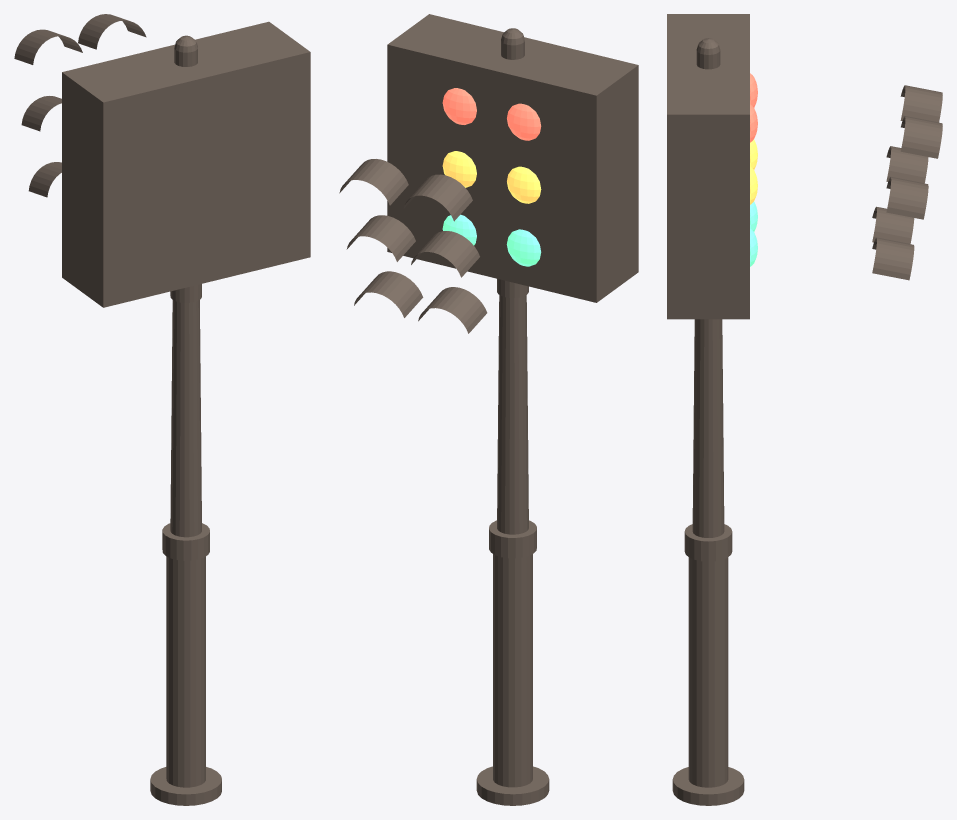
File: 35-traffic-light-bs1.glb
The picture shows the model from 3 angles, left to right: view 1: azimuth 30°, elevation 25°; view 2: azimuth 150°, elevation 25°; view 3: azimuth 270°, elevation 25°; orthographic projection.
Visible parts, largest first — view 1: Housing, PoleLower, PoleUpper, BaseFlange, CollarRing, Hood_red_-0.23, Hood_red_+0.23, Hood_orange_-0.23, Hood_green_-0.23; view 2: Housing, PoleLower, PoleUpper, BaseFlange, Hood_green_+0.23, Hood_green_-0.23, Hood_red_+0.23, Hood_orange_+0.23, Hood_red_-0.23, Hood_orange_-0.23, CollarRing, Lens_green_-0.23 (+5 smaller); view 3: Housing, PoleLower, PoleUpper, BaseFlange, Hood_orange_+0.23, Hood_green_+0.23, Hood_red_+0.23, CollarRing, Hood_red_-0.23, Hood_orange_-0.23, Hood_green_-0.23.
Part boxes in pixels (box(x1,y1,x2,y2)): Housing: box(62, 21, 310, 307); PoleLower: box(166, 556, 205, 787); PoleUpper: box(170, 300, 201, 537); BaseFlange: box(150, 767, 221, 805); CollarRing: box(162, 523, 209, 560); Hood_red_-0.23: box(14, 29, 82, 64); Hood_red_+0.23: box(78, 14, 146, 49); Hood_orange_-0.23: box(21, 96, 61, 131); Hood_green_-0.23: box(28, 162, 61, 197); Housing: box(387, 14, 638, 302); PoleLower: box(493, 554, 532, 787); PoleUpper: box(497, 295, 528, 534); BaseFlange: box(476, 766, 549, 805); Hood_green_+0.23: box(354, 271, 423, 317); Hood_green_-0.23: box(418, 287, 487, 333); Hood_red_+0.23: box(339, 159, 408, 205); Hood_orange_+0.23: box(346, 215, 415, 261); Hood_red_-0.23: box(403, 174, 472, 221); Hood_orange_-0.23: box(411, 231, 479, 277); CollarRing: box(489, 520, 536, 558); Lens_green_-0.23: box(506, 229, 541, 266); Housing: box(667, 14, 749, 319); PoleLower: box(688, 557, 728, 787); PoleUpper: box(692, 319, 724, 537); BaseFlange: box(672, 767, 744, 805); Hood_orange_+0.23: box(886, 177, 928, 219); Hood_green_+0.23: box(872, 237, 914, 280); Hood_red_+0.23: box(900, 116, 942, 158); CollarRing: box(684, 524, 732, 561); Hood_red_-0.23: box(900, 85, 942, 122); Hood_orange_-0.23: box(886, 146, 928, 183); Hood_green_-0.23: box(872, 206, 914, 243).
Bounding box in the file's own units: 1.5 × 5.21 × 1.73.
